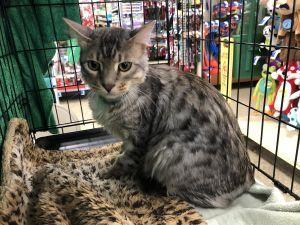bengal: (61, 9, 160, 108)
